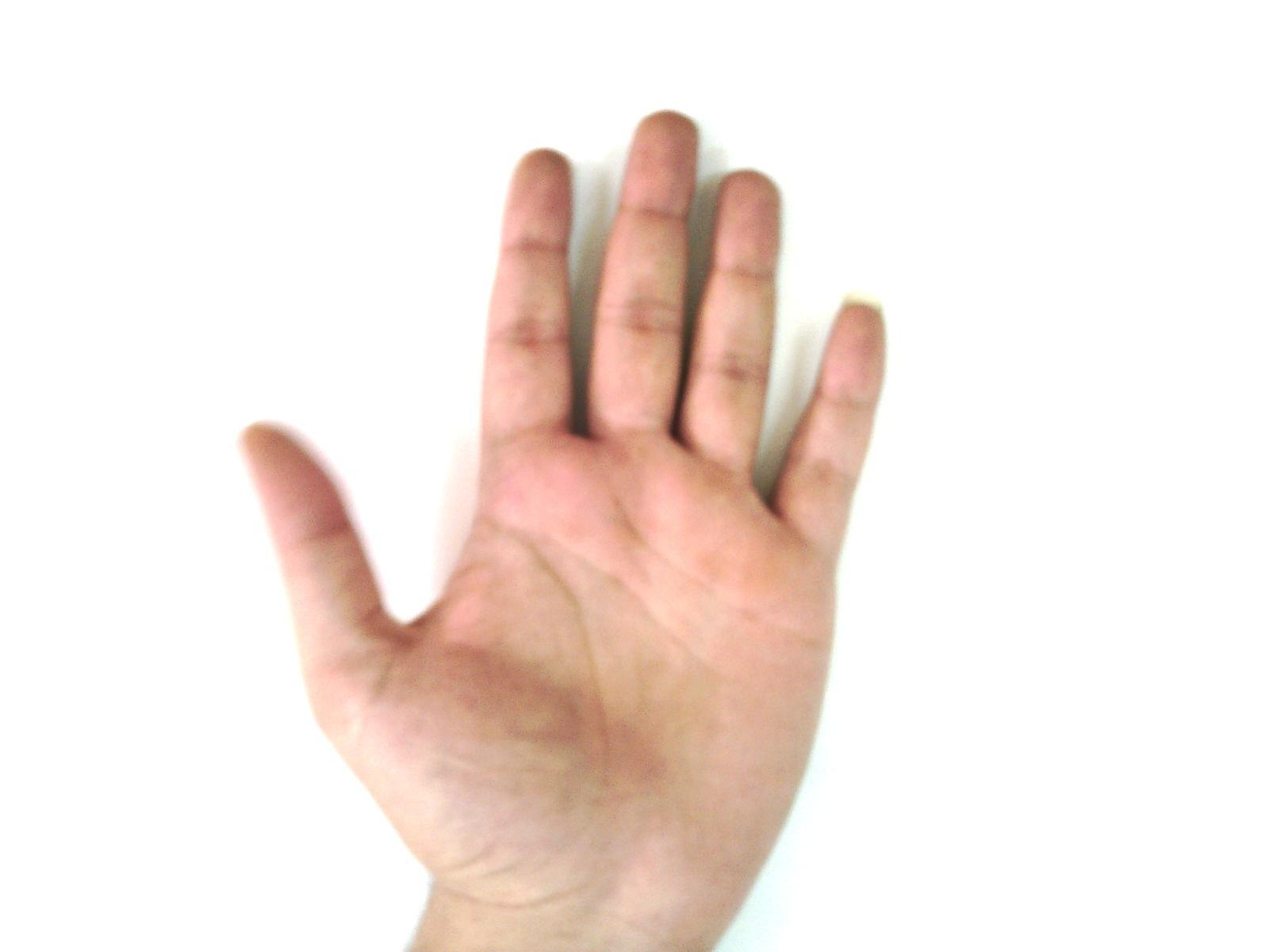open_palm: (236, 109, 891, 949)
